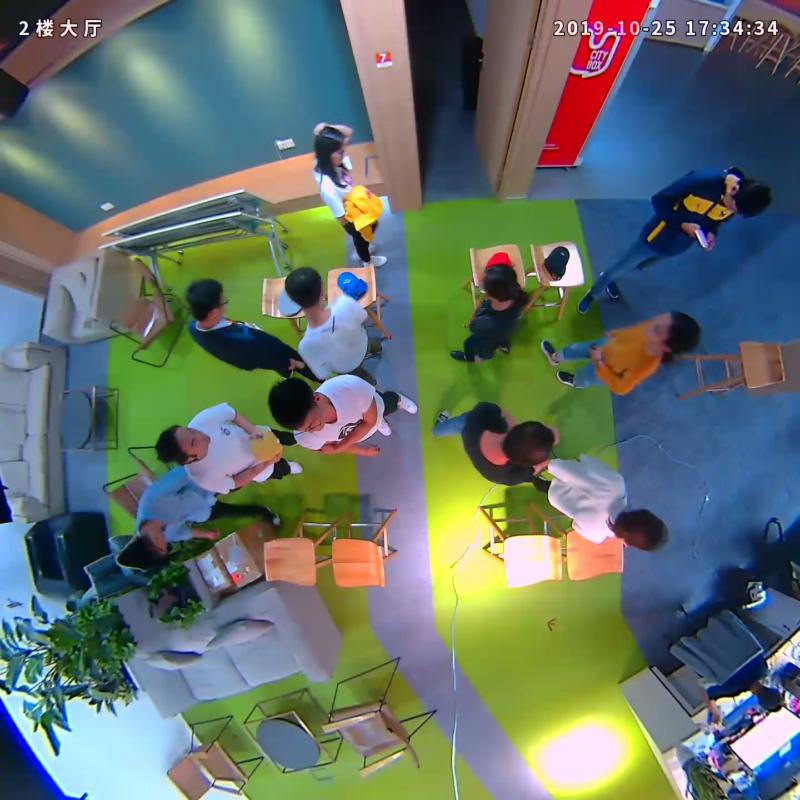head: (269, 377, 326, 434), (643, 309, 699, 354), (613, 507, 668, 552), (155, 423, 212, 465), (501, 421, 552, 466), (724, 179, 771, 218), (283, 267, 324, 311), (185, 279, 227, 321), (130, 529, 169, 568), (480, 264, 518, 304), (314, 126, 345, 166)
